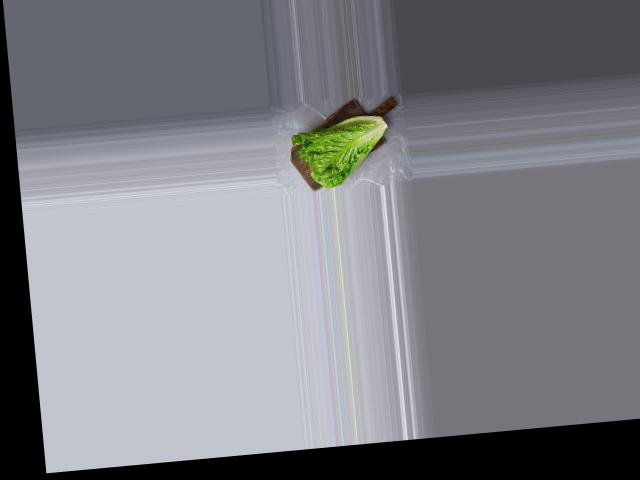lettuce: (289, 102, 396, 190)
